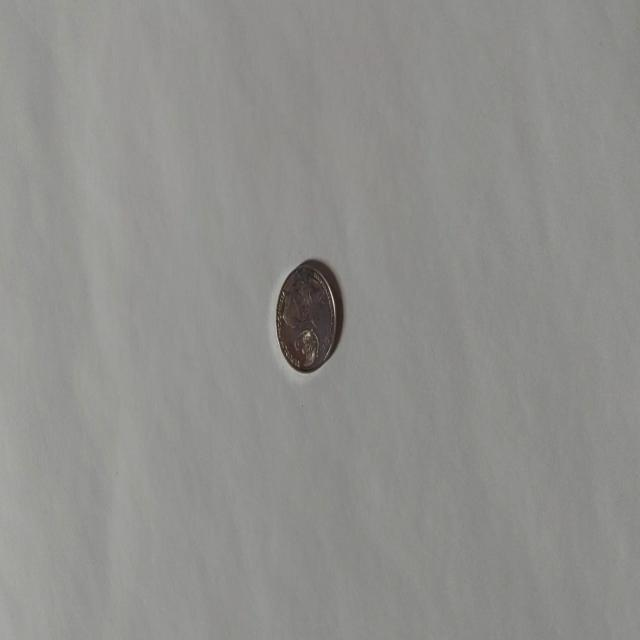dua ratus rupiah: (274, 260, 338, 374)
